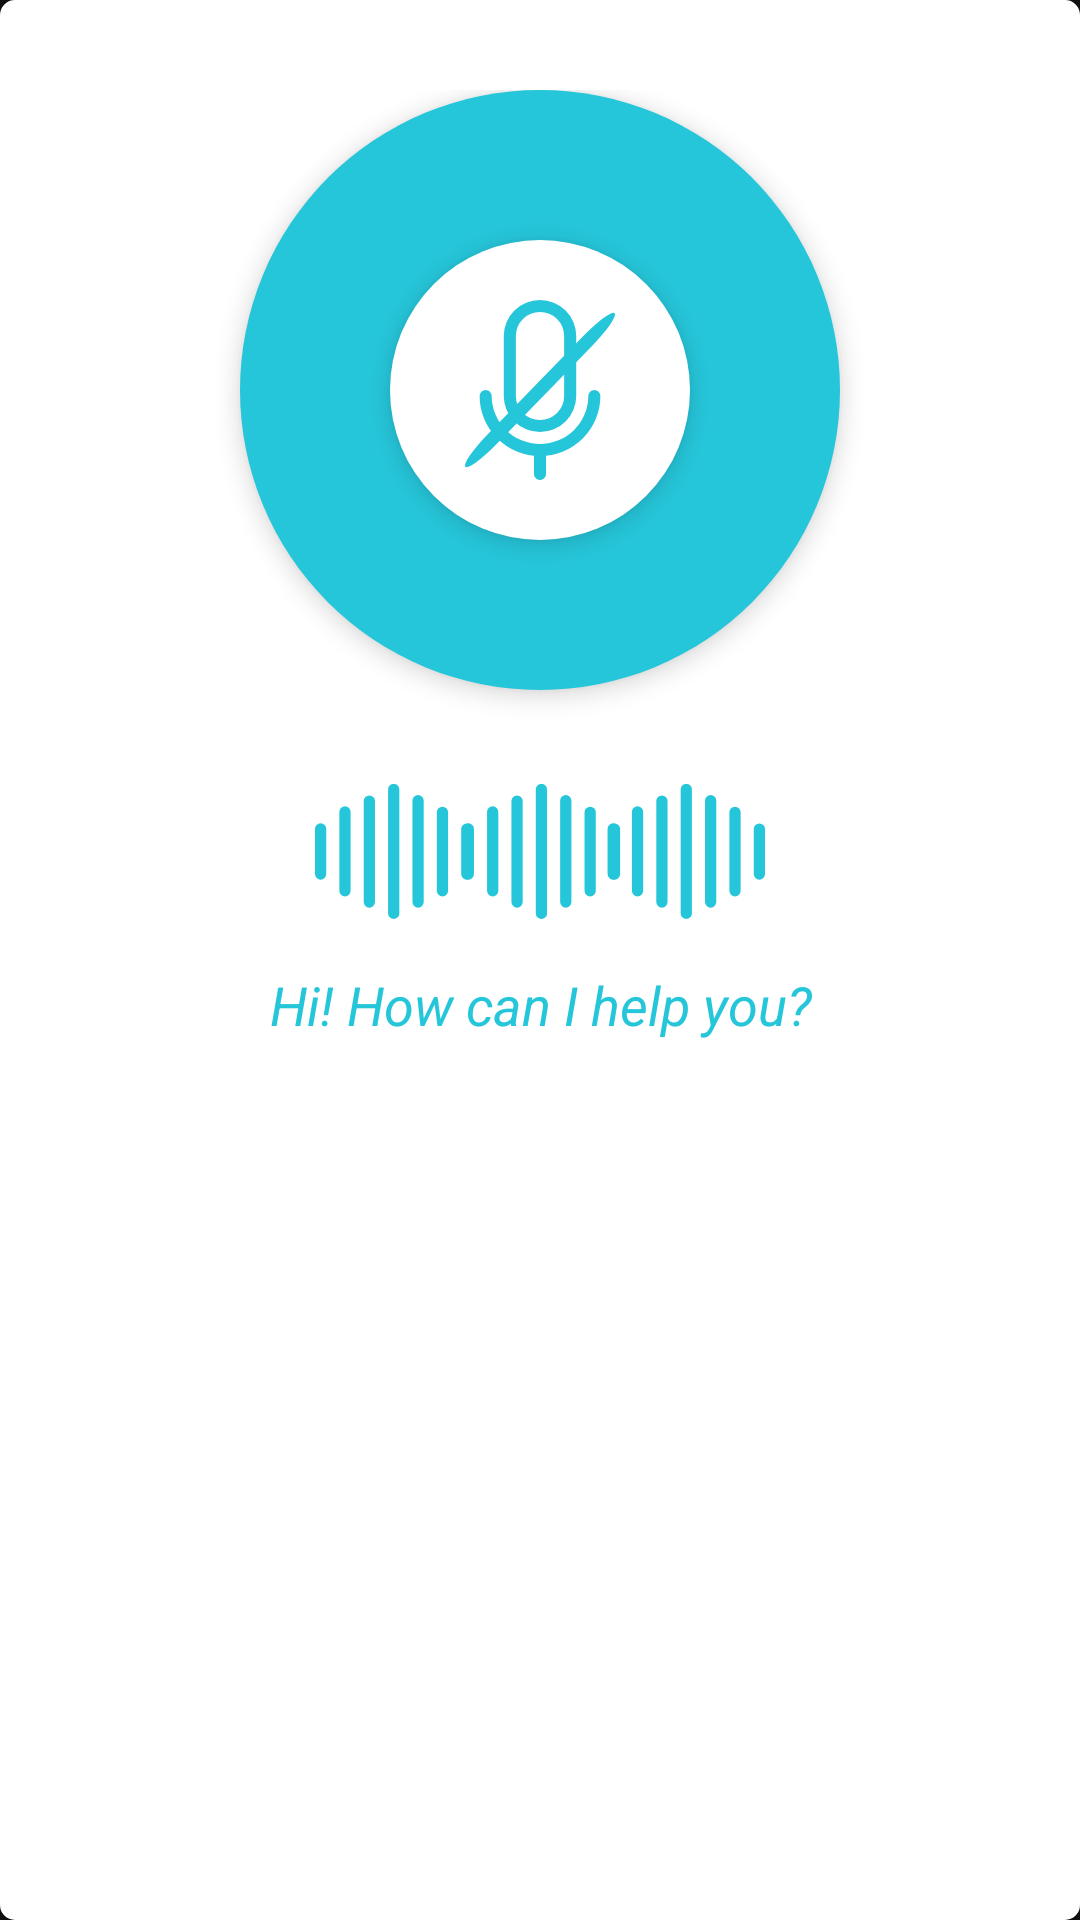

Named icons in this screenshot (1080px×1920px) and their centers, (x,y):
Micrófono: (540,390)
